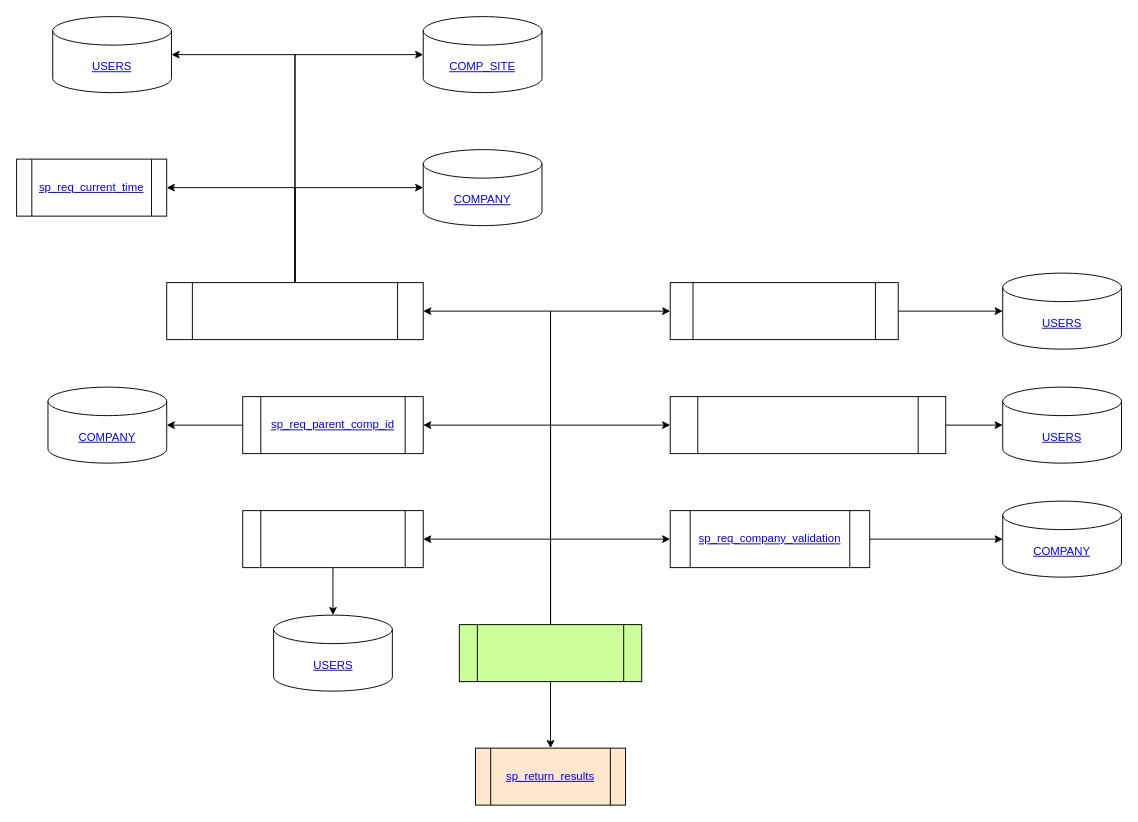
This 1138x822 diagram has some shape labels left out. The shapes that lost their labels are listed below. From the top down, each one's box as (x1, y1, x2, y2) in pixels, then its label:
(166, 282, 423, 340): sp_delete_company_without_handler
(669, 282, 898, 340): sp_req_comp_id_of_user_by_id
(669, 396, 946, 454): sp_req_super_permission_by_userid
(242, 510, 423, 568): sp_req_user_exists_by_id
(458, 624, 642, 682): sp_delete_company
